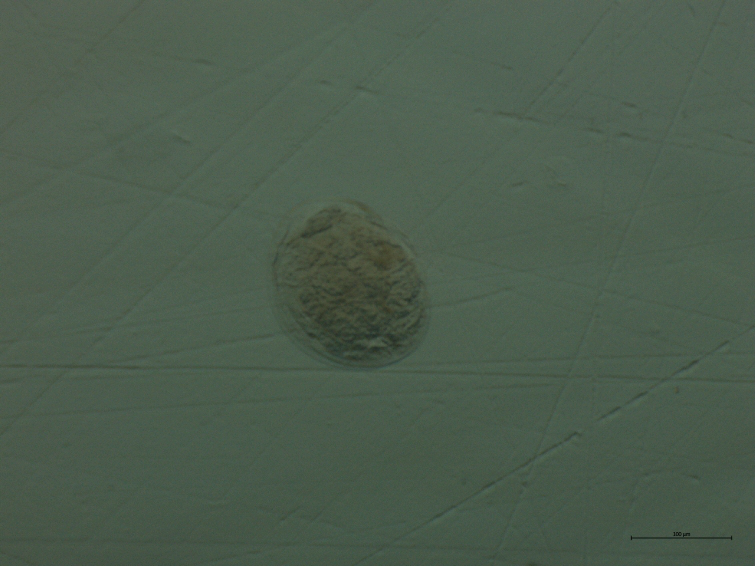oyster: (257, 188, 444, 383)
